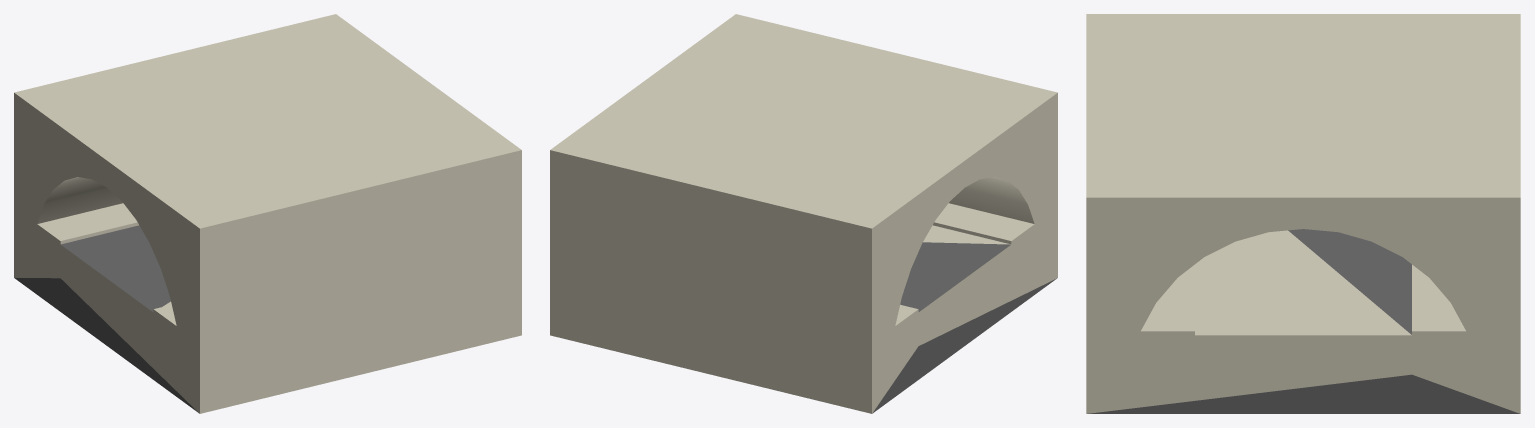
The model's file is tile253.fbx.
3 renders of one model, left to right at view 1: azimuth 30°, elevation 25°; view 2: azimuth 150°, elevation 25°; view 3: azimuth 270°, elevation 25°, orthographic. The views are drawn at different scales.
Parts seen in each view (by area): view 1: tile253; view 2: tile253; view 3: tile253.
Part boxes in pixels (bbox=[...]): tile253: bbox=[14, 14, 521, 413]; tile253: bbox=[550, 14, 1057, 413]; tile253: bbox=[1086, 14, 1520, 413].
Size of the model in its own units: 10 by 5.5 by 10.
